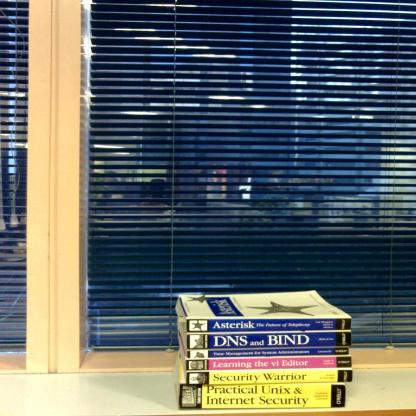book: (172, 290, 354, 410)
